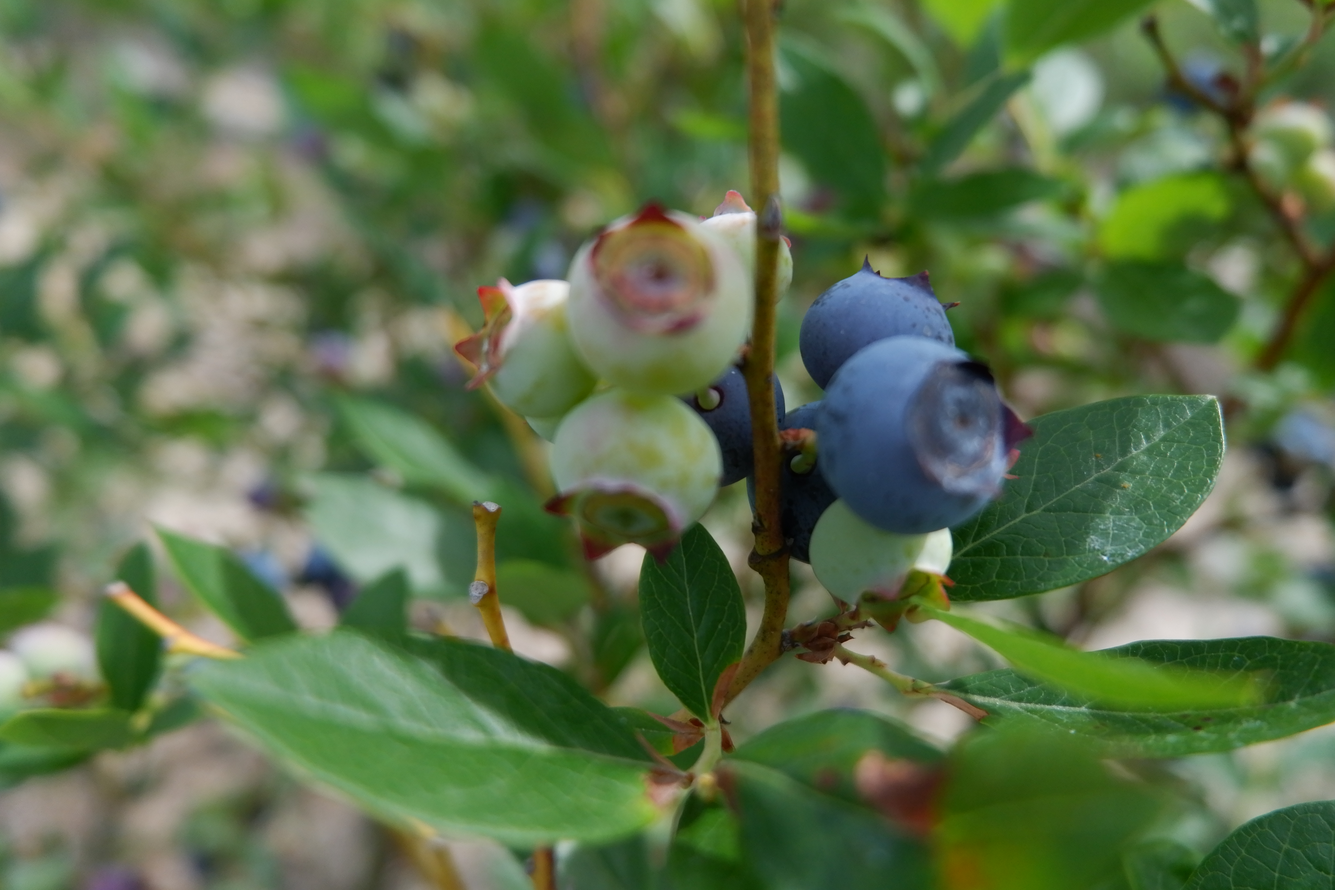Immature: (570, 206, 750, 394), (551, 395, 717, 552), (459, 284, 594, 416), (814, 503, 946, 616), (711, 192, 789, 303), (528, 410, 567, 441)
Mature: (820, 343, 1017, 532), (804, 261, 954, 382), (744, 400, 834, 560), (684, 365, 786, 485)
